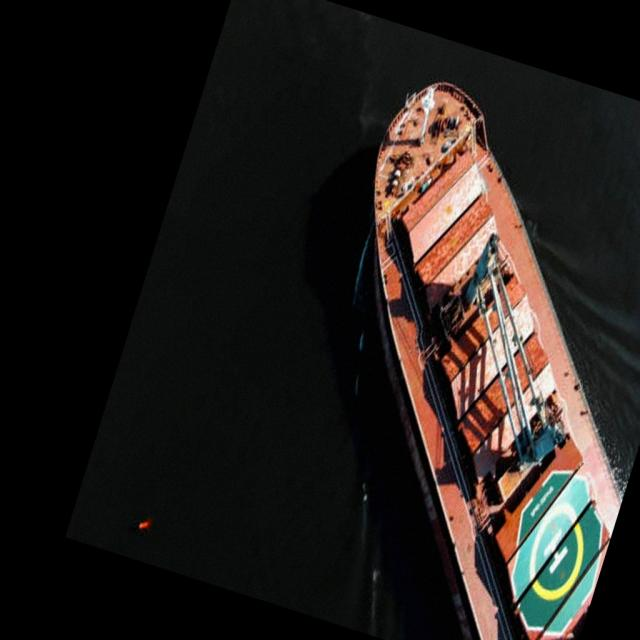helipad: (524, 497, 584, 602)
